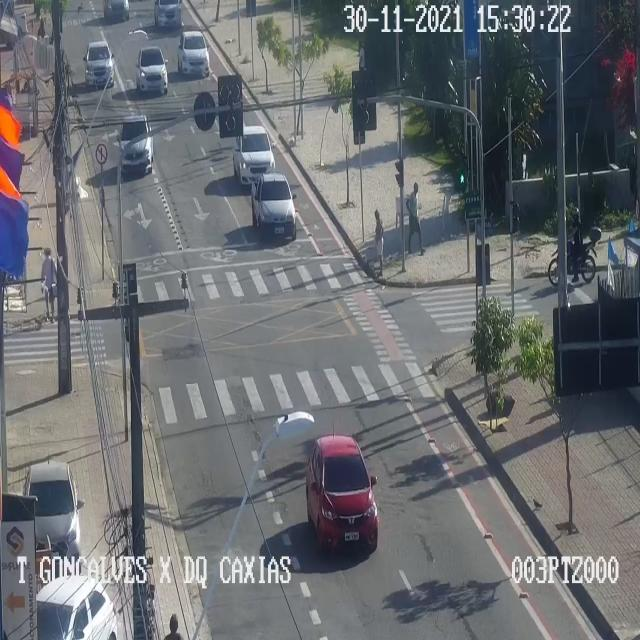Car: (305, 435, 379, 549), (23, 460, 83, 560), (35, 574, 117, 639), (251, 172, 297, 238), (232, 121, 276, 183), (116, 116, 152, 178), (177, 30, 211, 78), (82, 39, 116, 86), (136, 47, 170, 93), (153, 0, 186, 28), (105, 0, 135, 21)
Motorcycle: (549, 208, 597, 286)
